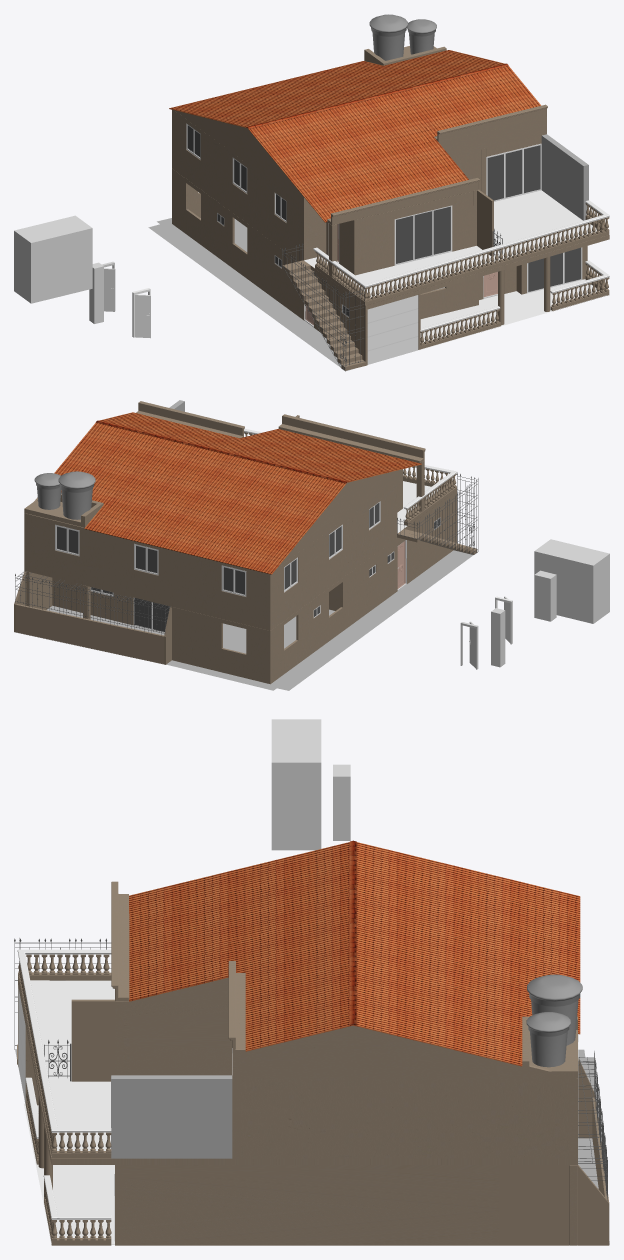
File: tryHouseV1.fbx
The picture shows the model from 3 angles, top to bottom: view 1: azimuth 30°, elevation 25°; view 2: azimuth 150°, elevation 25°; view 3: azimuth 270°, elevation 25°; orthographic projection. The views are drawn at different scales.
Parts seen in each view (by area): view 1: Roof, Plane_003, Plane_001, Cube.003, Plane_18527, Plane_008, Plane_004, Floor, Cube_018, Cube_005, Plane, Window_002 (+24 smaller); view 2: Roof, Plane_003, Plane_001, Plane_007, Cube.003, Plane_004, Floor, Plane_006, Plane_008, Plane_002, Cube_011, Cube_017 (+18 smaller); view 3: Roof, Plane_003, Plane_001, Plane_008, Cube_010, Plane_007, Plane_18527, Cube.003, Plane, Plane_002, Plane_18526, Plane_004 (+15 smaller).
Part boxes in pixels (x1,y1,x2,y2): Roof: [169, 50, 540, 222]; Plane_003: [172, 110, 541, 275]; Plane_001: [172, 168, 587, 365]; Cube.003: [14, 215, 92, 303]; Plane_18527: [304, 190, 599, 297]; Plane_008: [175, 110, 546, 204]; Plane_004: [327, 104, 547, 225]; Floor: [148, 224, 606, 370]; Cube_018: [367, 295, 418, 364]; Cube_005: [367, 218, 605, 300]; Plane: [418, 279, 599, 350]; Window_002: [394, 205, 452, 265]; Roof: [54, 412, 421, 574]; Plane_003: [24, 469, 402, 626]; Plane_001: [52, 495, 456, 683]; Plane_007: [14, 571, 171, 664]; Cube.003: [534, 539, 609, 623]; Plane_004: [136, 401, 425, 463]; Floor: [14, 550, 473, 690]; Plane_006: [46, 605, 363, 690]; Plane_008: [34, 470, 397, 567]; Plane_002: [24, 491, 456, 630]; Cube_011: [29, 576, 169, 635]; Cube_017: [417, 478, 478, 554]; Roof: [129, 840, 580, 1066]; Plane_003: [115, 1001, 577, 1158]; Plane_001: [18, 985, 499, 1245]; Plane_008: [130, 977, 576, 1078]; Cube_010: [111, 1075, 232, 1158]; Plane_007: [499, 1058, 609, 1245]; Plane_18527: [30, 980, 114, 1150]; Cube.003: [271, 719, 321, 850]; Plane: [24, 1103, 114, 1244]; Plane_002: [18, 978, 577, 1164]; Plane_18526: [71, 999, 114, 1081]; Plane_004: [111, 881, 245, 1053].
Size of the model in its own units: 2369 by 983 by 1676.
